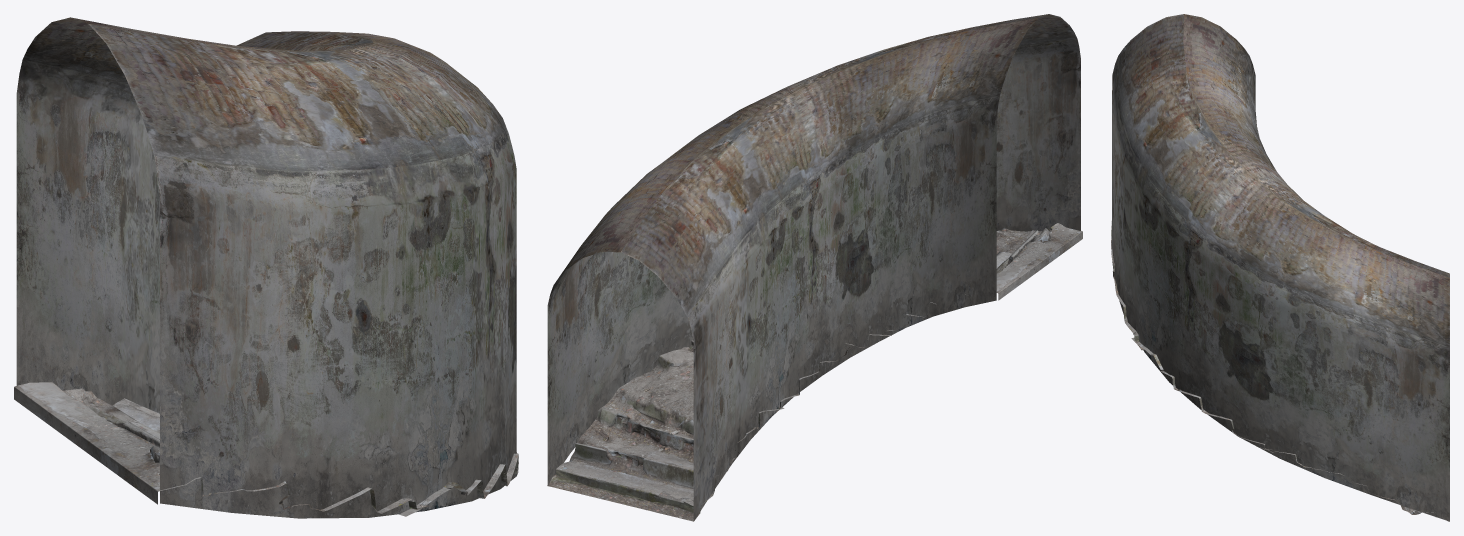
File: SM_Stairs_01_13_R.fbx
3 renders of one model, left to right at view 1: azimuth 30°, elevation 25°; view 2: azimuth 150°, elevation 25°; view 3: azimuth 270°, elevation 25°, orthographic. The views are drawn at different scales.
Parts seen in each view (by area): view 1: sm_Stairs_01_13_R_LOD0; view 2: sm_Stairs_01_13_R_LOD0; view 3: sm_Stairs_01_13_R_LOD0.
Boxes of the visible parts, left/top/right/bottom form: sm_Stairs_01_13_R_LOD0: left=14, top=17, right=518, bottom=518; sm_Stairs_01_13_R_LOD0: left=547, top=14, right=1082, bottom=521; sm_Stairs_01_13_R_LOD0: left=1111, top=14, right=1449, bottom=521.
Size of the model in its own units: 474 by 461 by 569.
